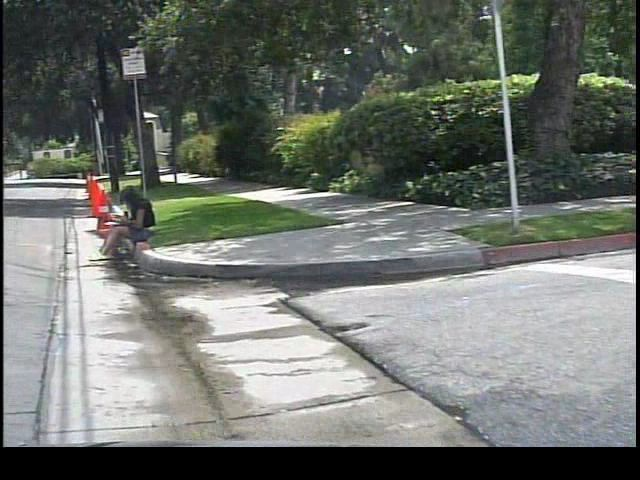person: (82, 184, 160, 264)
